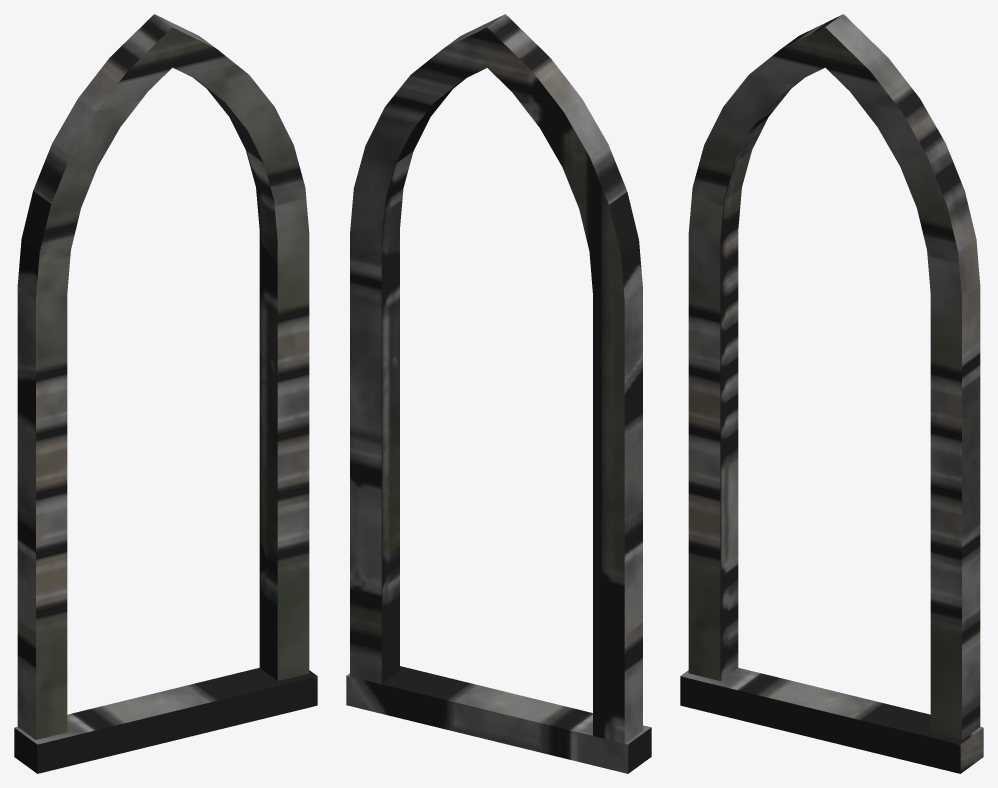
The model's file is fenetre.fbx.
The picture shows the model from 3 angles, left to right: view 1: azimuth 30°, elevation 25°; view 2: azimuth 150°, elevation 25°; view 3: azimuth 330°, elevation 25°; orthographic projection.
Visible parts, largest first — view 1: fenetre; view 2: fenetre; view 3: fenetre.
Boxes of the visible parts, x1=… form: fenetre: x1=14, y1=14, x2=317, y2=773; fenetre: x1=346, y1=14, x2=651, y2=773; fenetre: x1=680, y1=14, x2=983, y2=773.
Size of the model in its own units: 1.6 by 3.86 by 0.23.
1 material, 1 textured.
